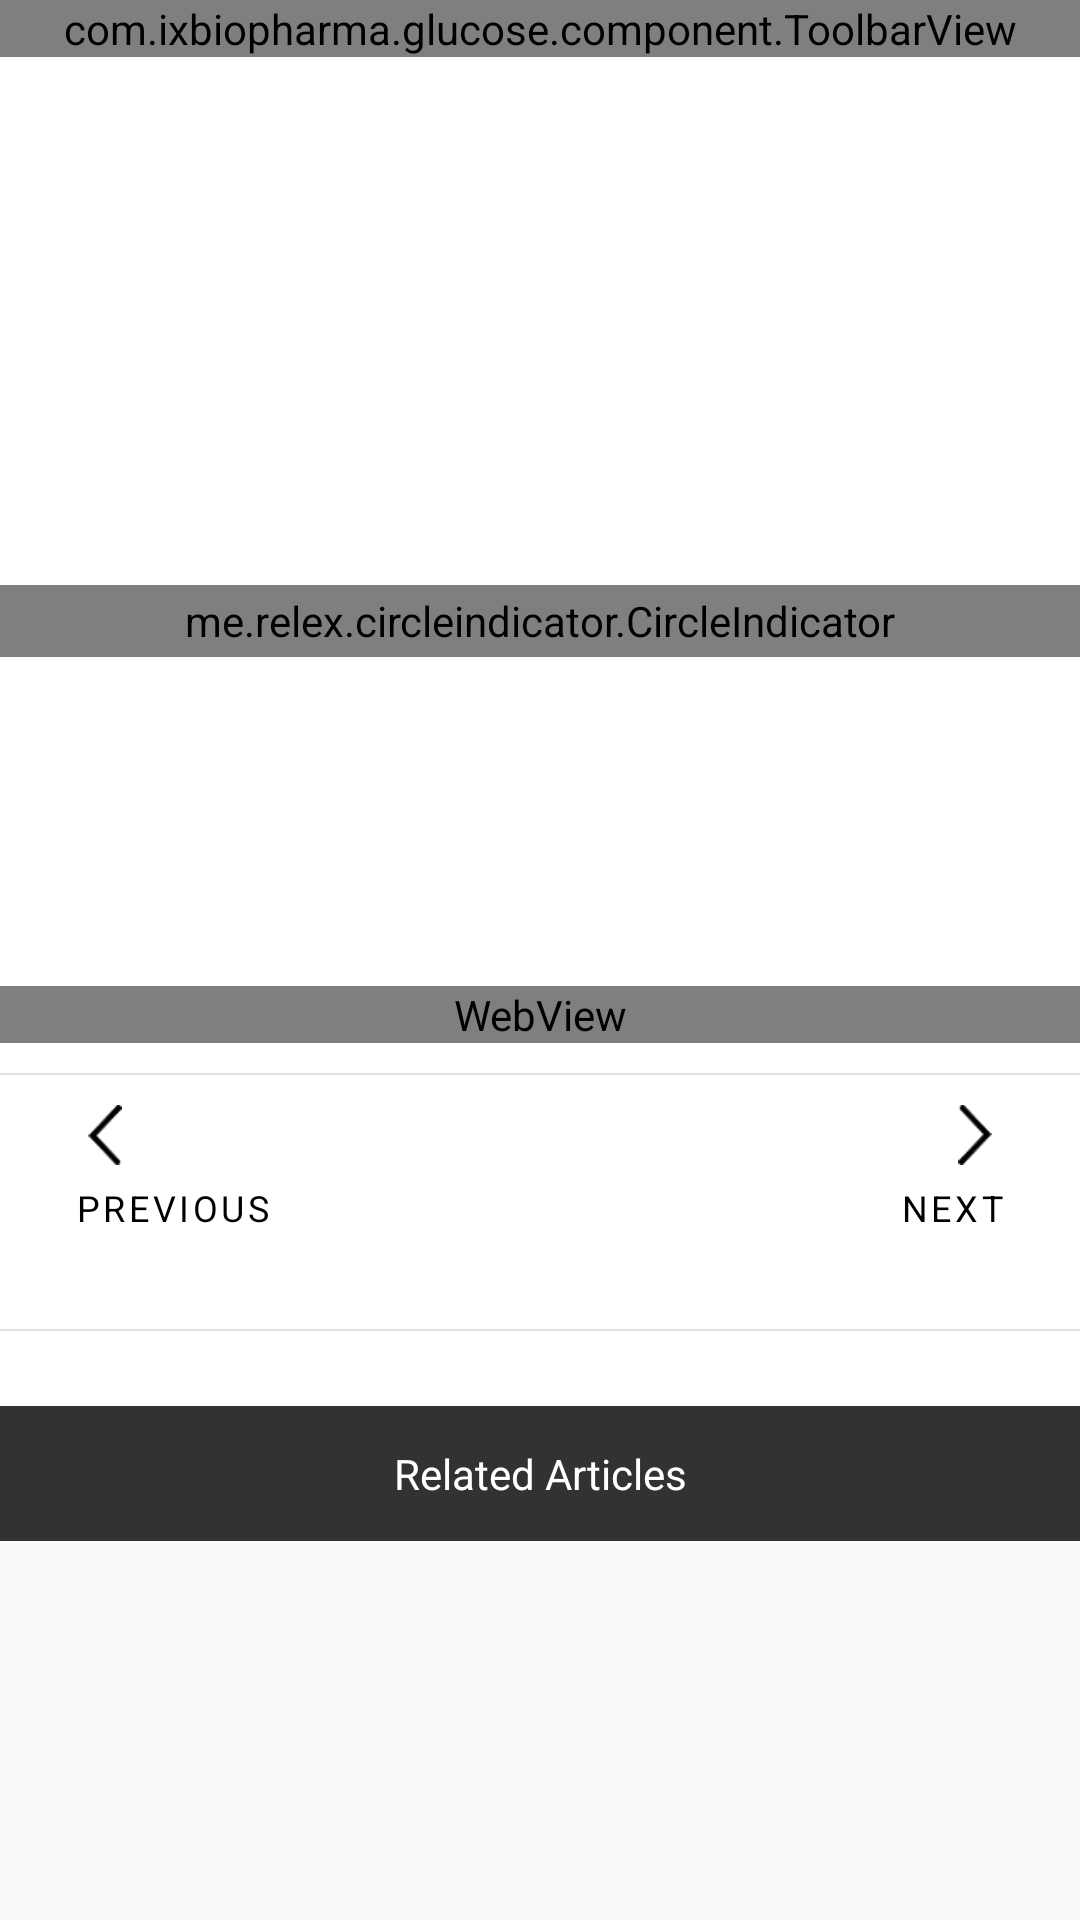

Screen size 1080×1920. Icon name, then its center in pixels as point (x, y):
settings arrow: point (975, 1135)
